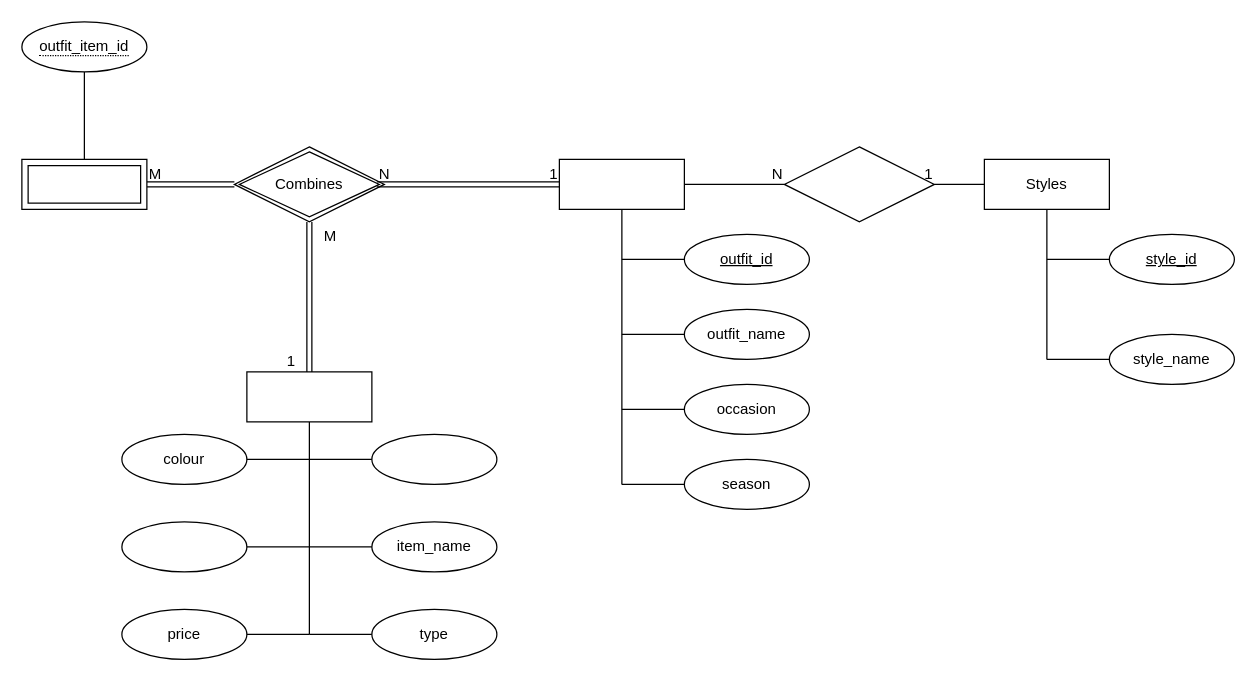
Some shapes in this 1256 by 681 pixel diagram are drawn without their labels. Here are the shapes that lost their labels. From the top down, the centre of each, then its label:
At point (84, 183): "OutfitItems".
At point (621, 183): "Outfits".
At point (858, 184): "Uses".
At point (309, 396): "ClothingItems".
At point (434, 458): "item_id".
At point (184, 546): "fabric".
